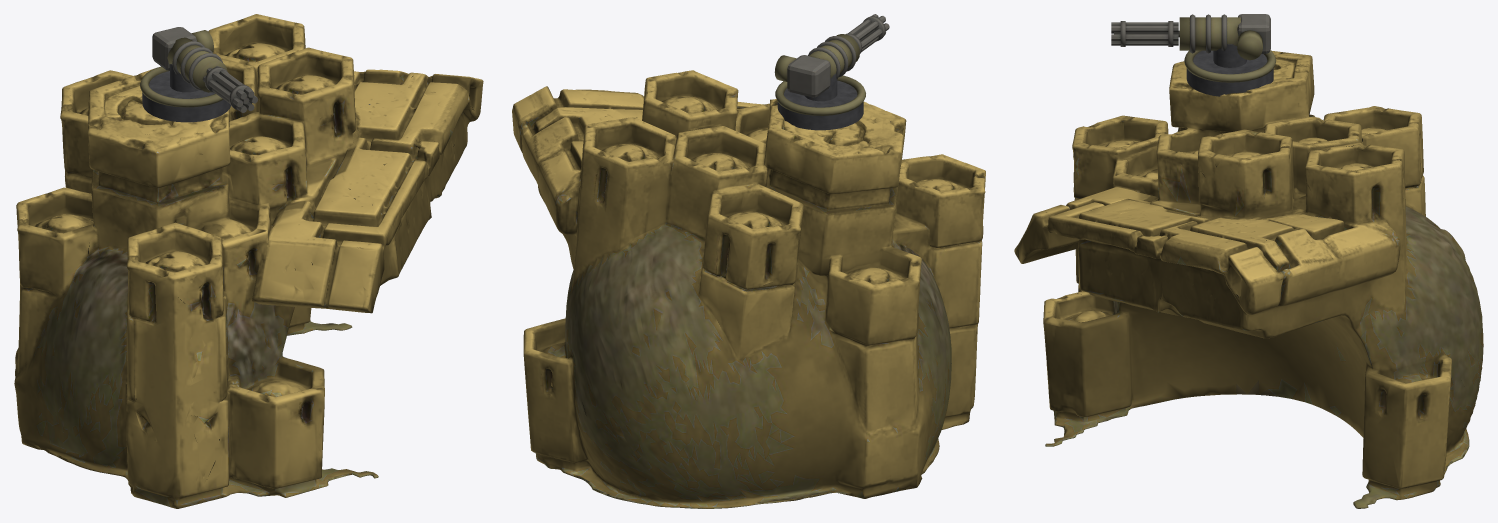
The model's file is colony_wasp.glb.
3 renders of one model, left to right at view 1: azimuth 30°, elevation 25°; view 2: azimuth 150°, elevation 25°; view 3: azimuth 270°, elevation 25°, orthographic. The views are drawn at different scales.
Parts seen in each view (by area): view 1: ColonyBody, Turret_1_Barrels, Turret_1; view 2: ColonyBody, Turret_1_Barrels, Turret_1; view 3: ColonyBody, Turret_1_Barrels, Turret_1.
Boxes of the visible parts, box(x1,y1,x2,y2) form: ColonyBody: box(14, 14, 483, 508); Turret_1_Barrels: box(152, 27, 258, 112); Turret_1: box(140, 64, 230, 122); ColonyBody: box(512, 70, 985, 508); Turret_1_Barrels: box(774, 14, 889, 97); Turret_1: box(775, 74, 865, 130); ColonyBody: box(1014, 51, 1483, 508); Turret_1_Barrels: box(1111, 14, 1270, 60); Turret_1: box(1184, 44, 1276, 96).
Bounding box in the file's own units: 5.06 × 4.32 × 4.74.
Materials: 7 (7 with a texture image).
